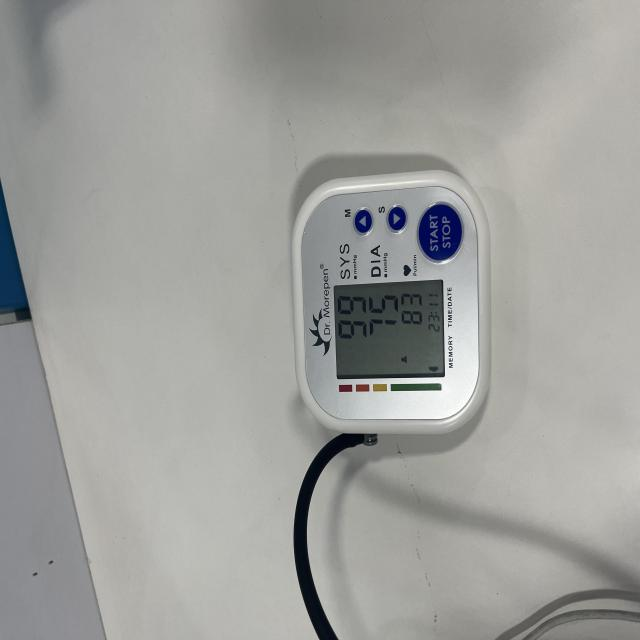bp: (290, 159, 491, 447)
